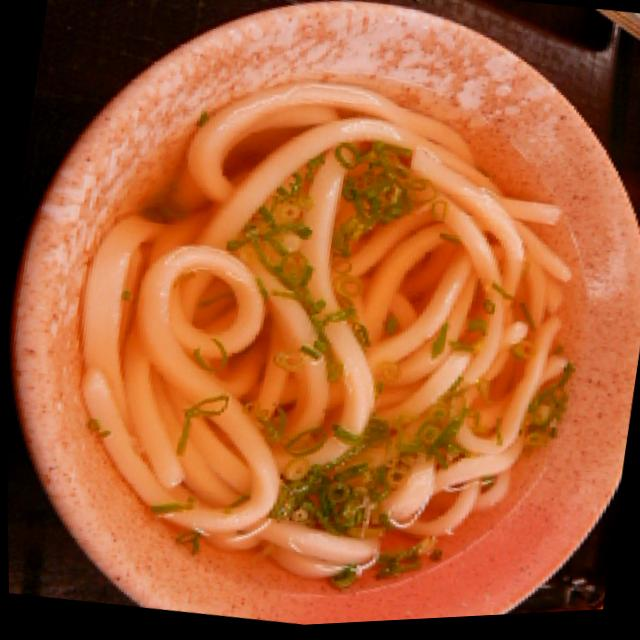面条主食: (7, 11, 640, 640)
